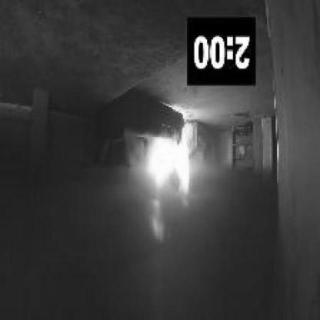Fire: (146, 123, 200, 207)
